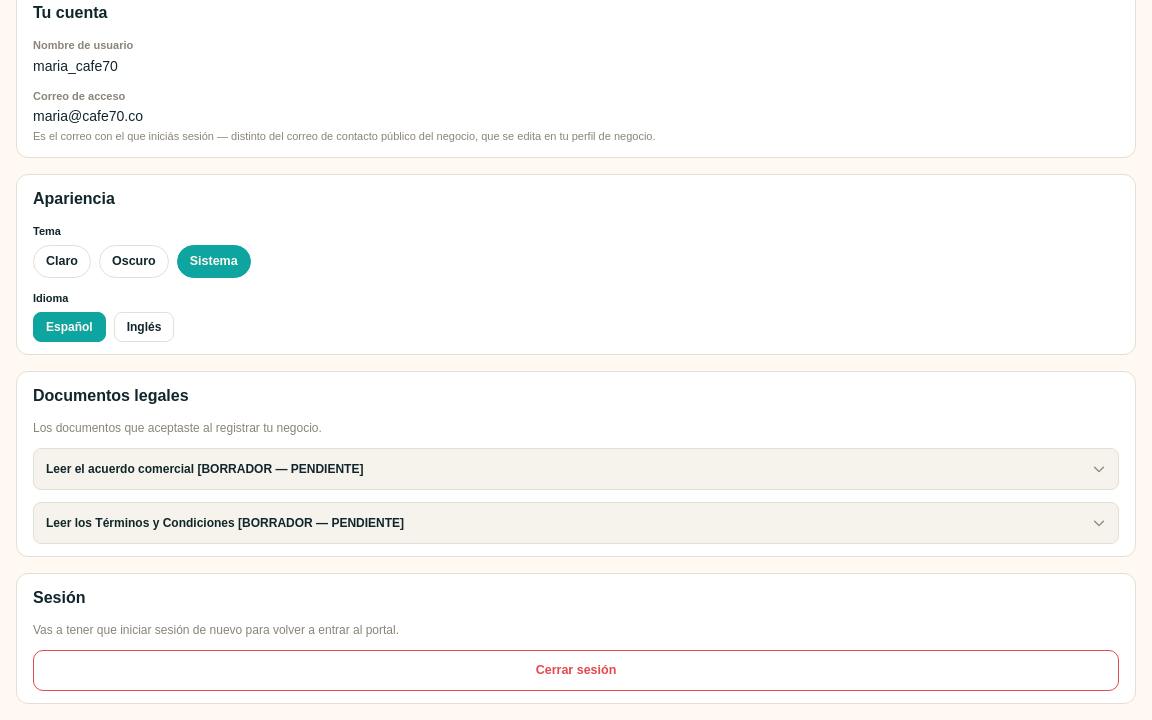
Test: SettingsPage › pide confirmación antes de cerrar sesión, no lo hace de una
(page scrolled)
Expected: the text "maria_cafe70" is shown, [33,58,118,74]
Click the button "Cerrar sesión": (576, 671) [33,650,1119,691]
(page scrolled)
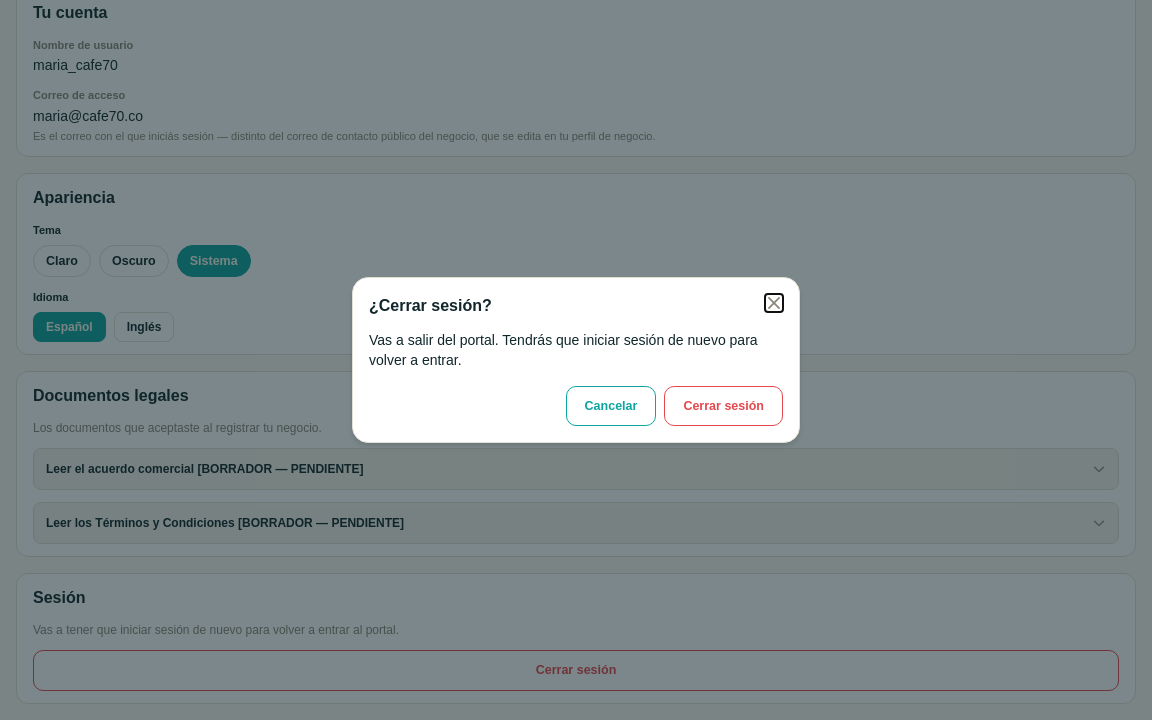
Expected: the dialog is shown, [352,277,800,443]
Expected: the text "Vas a salir del portal" is shown, [369,332,758,368]
